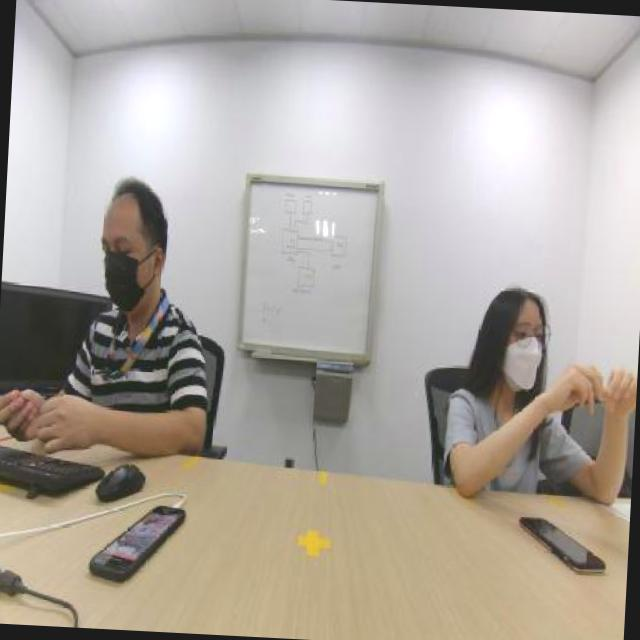Person: (446, 198, 640, 504), (77, 160, 228, 433)
